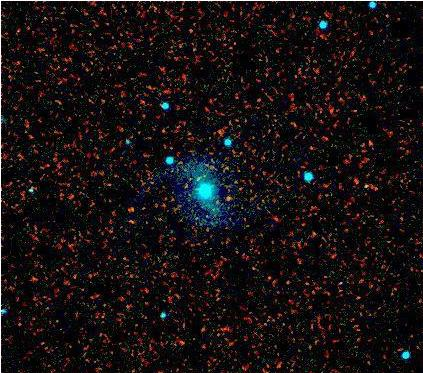star: (213, 182, 243, 212)
